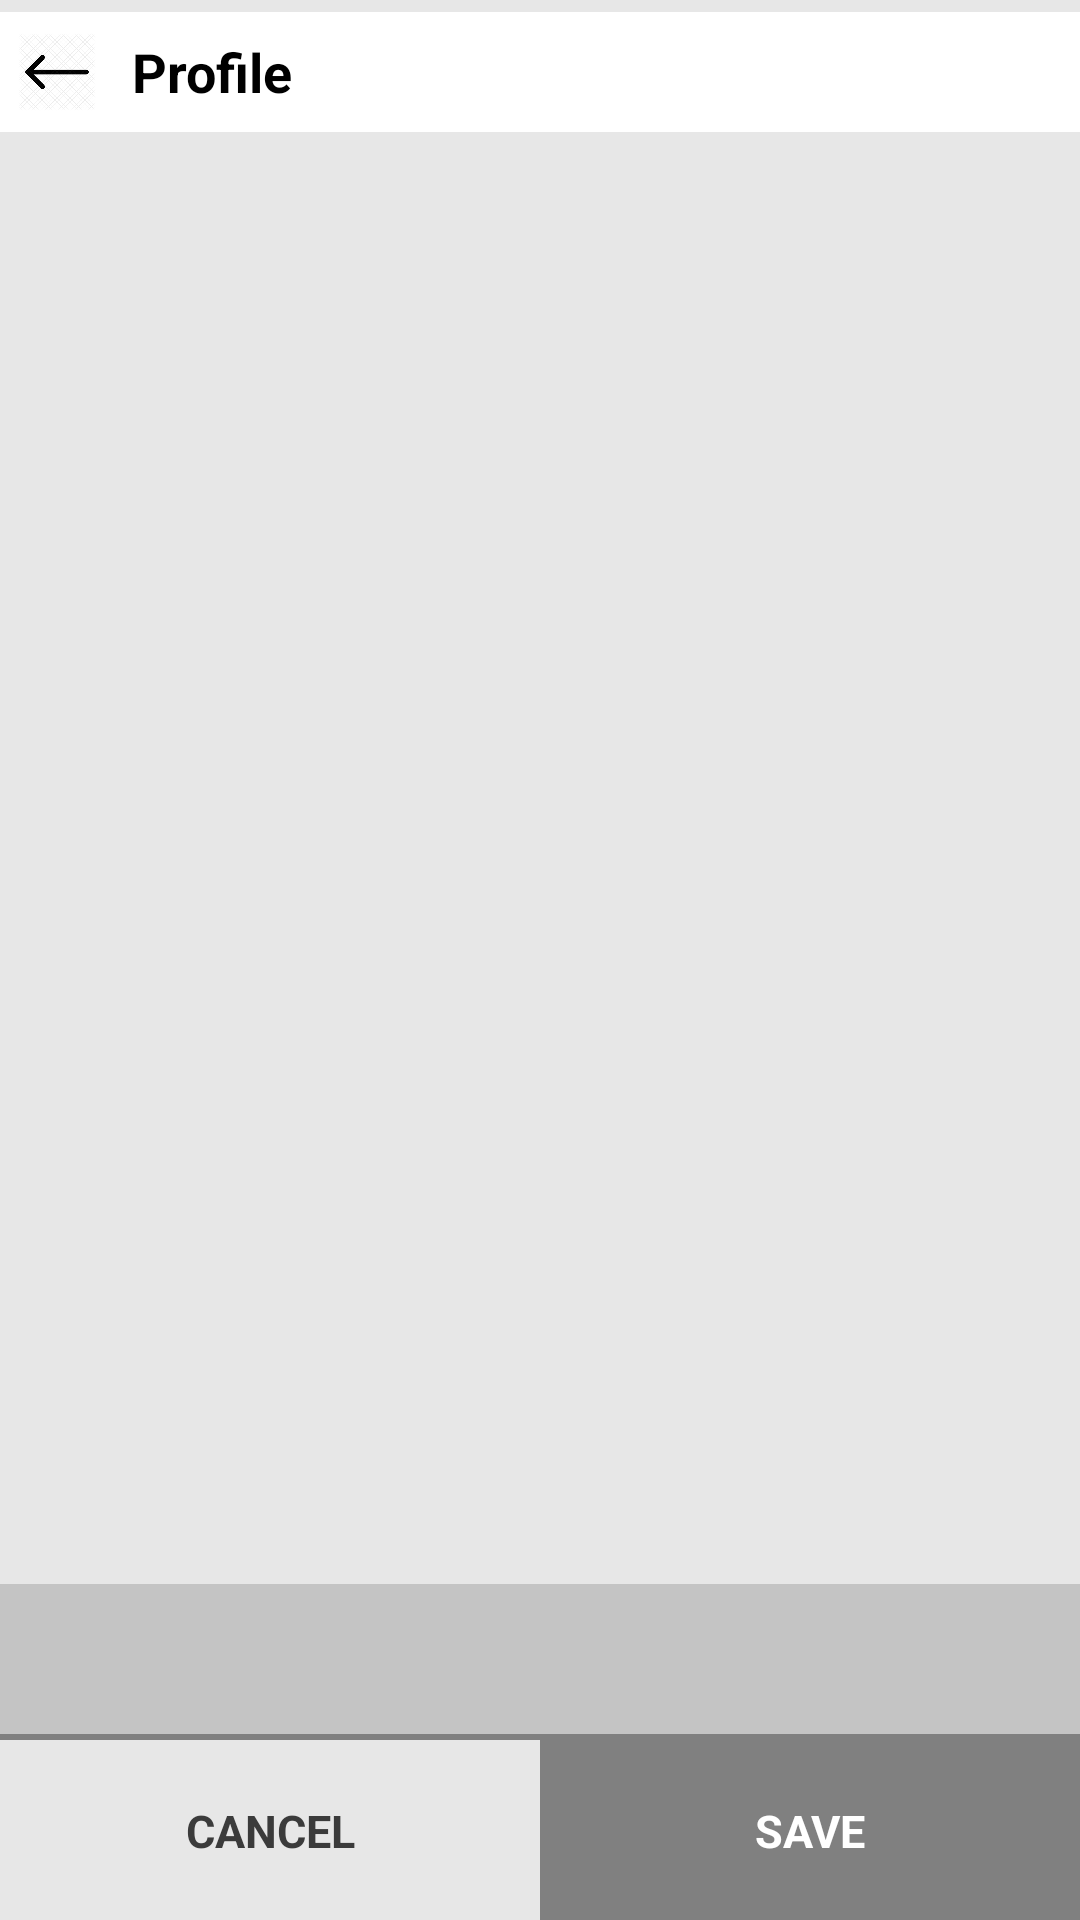

Icons on this 1080×1920 Android screen, each with its box as (x1, y1, x2, y2):
leftarrow: (25, 55, 89, 89)
